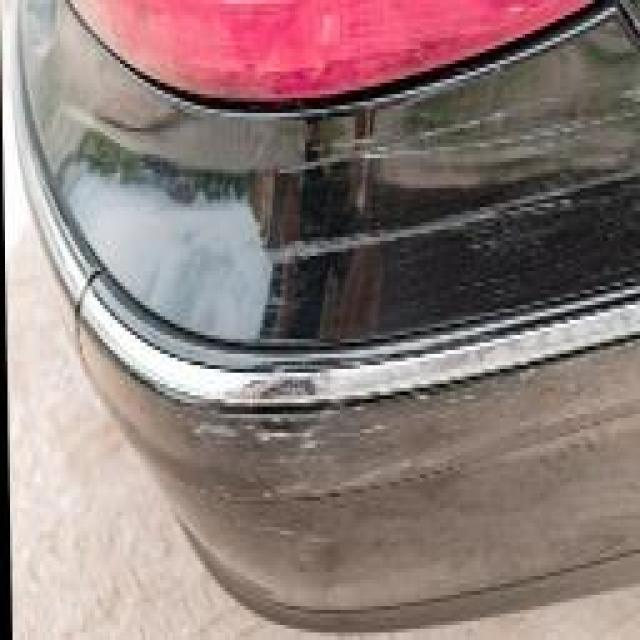Bumper: (175, 45, 636, 572)
